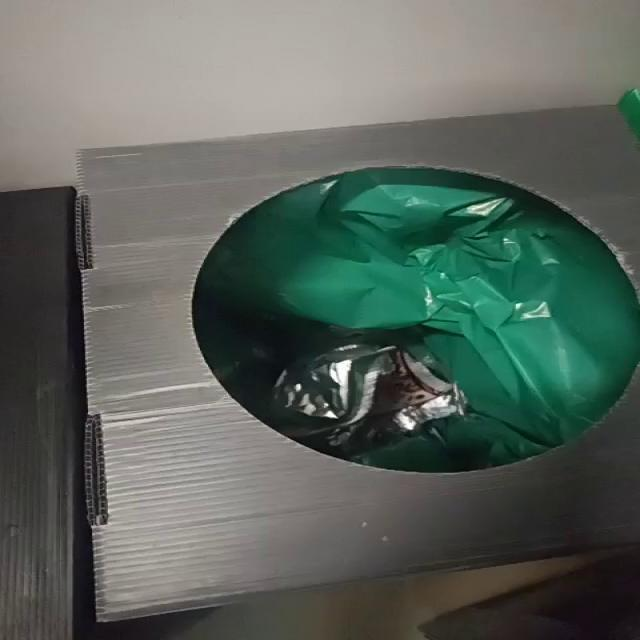Bin: (77, 107, 639, 622)
Metal: (271, 345, 468, 462)
